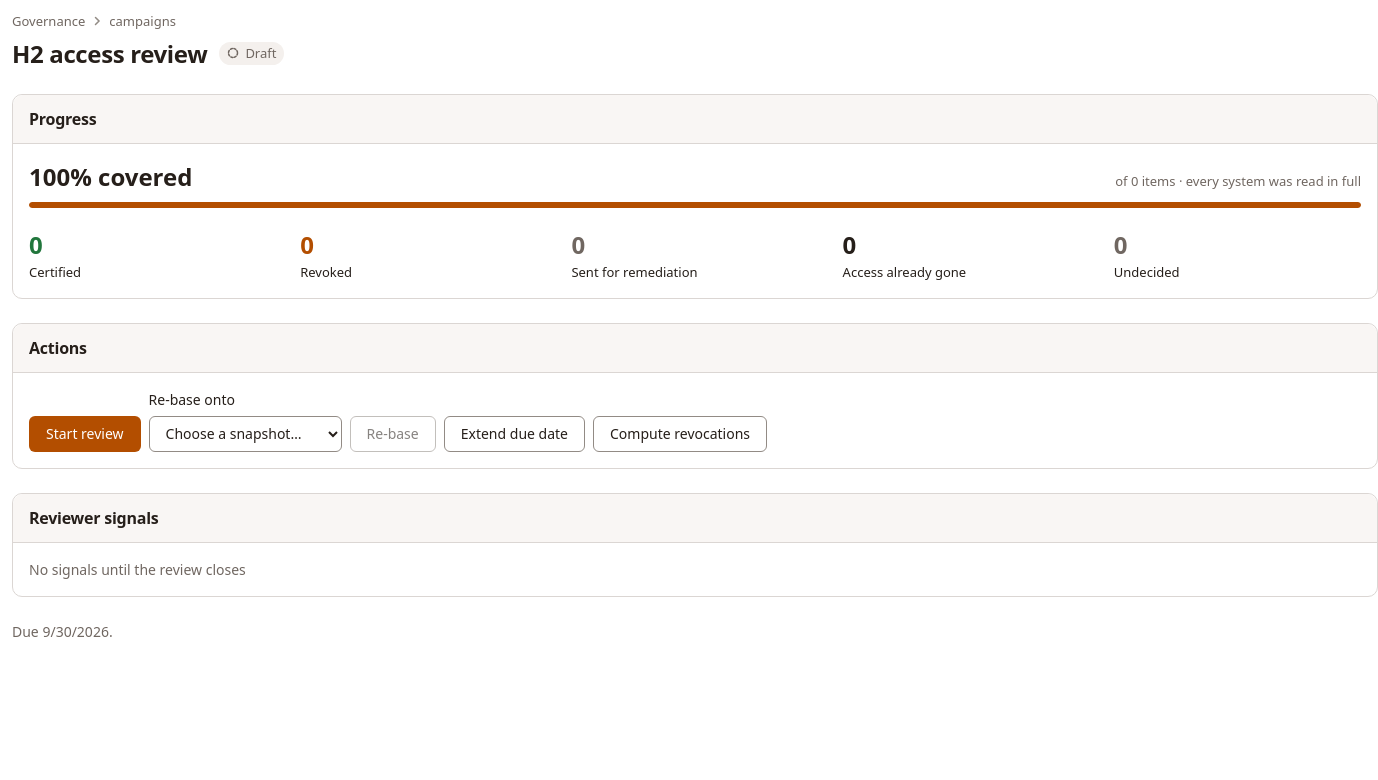
starting a campaign › offers Start on a draft and reports what it generated
Click the button "Start review" at [85, 434], box [29,416,140,452]
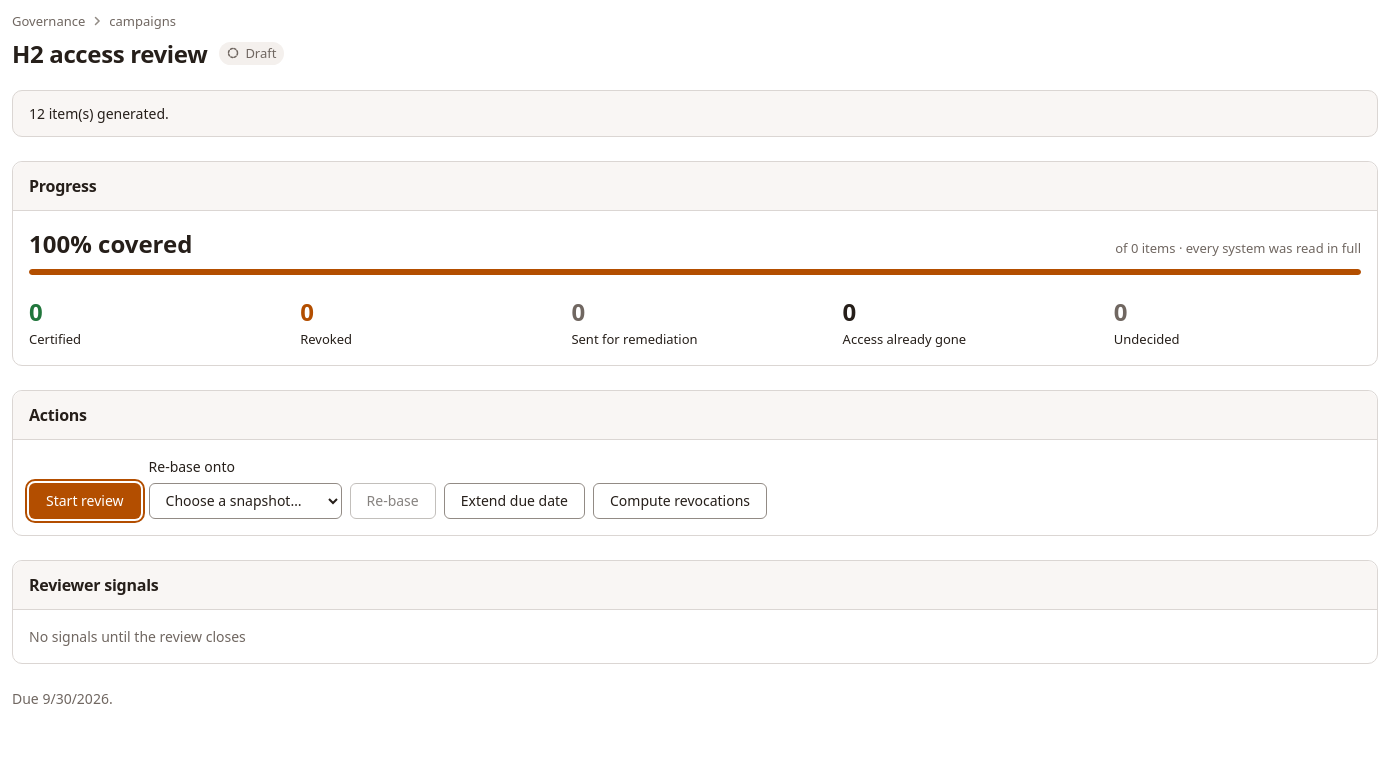
Check: the text "12 item(s) generated." is shown, box [29,104,169,123]
